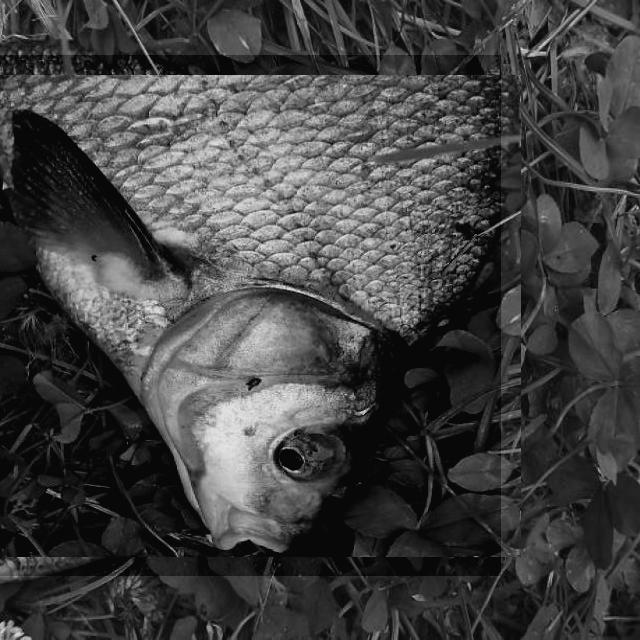EUS Disease: (0, 55, 501, 576)
